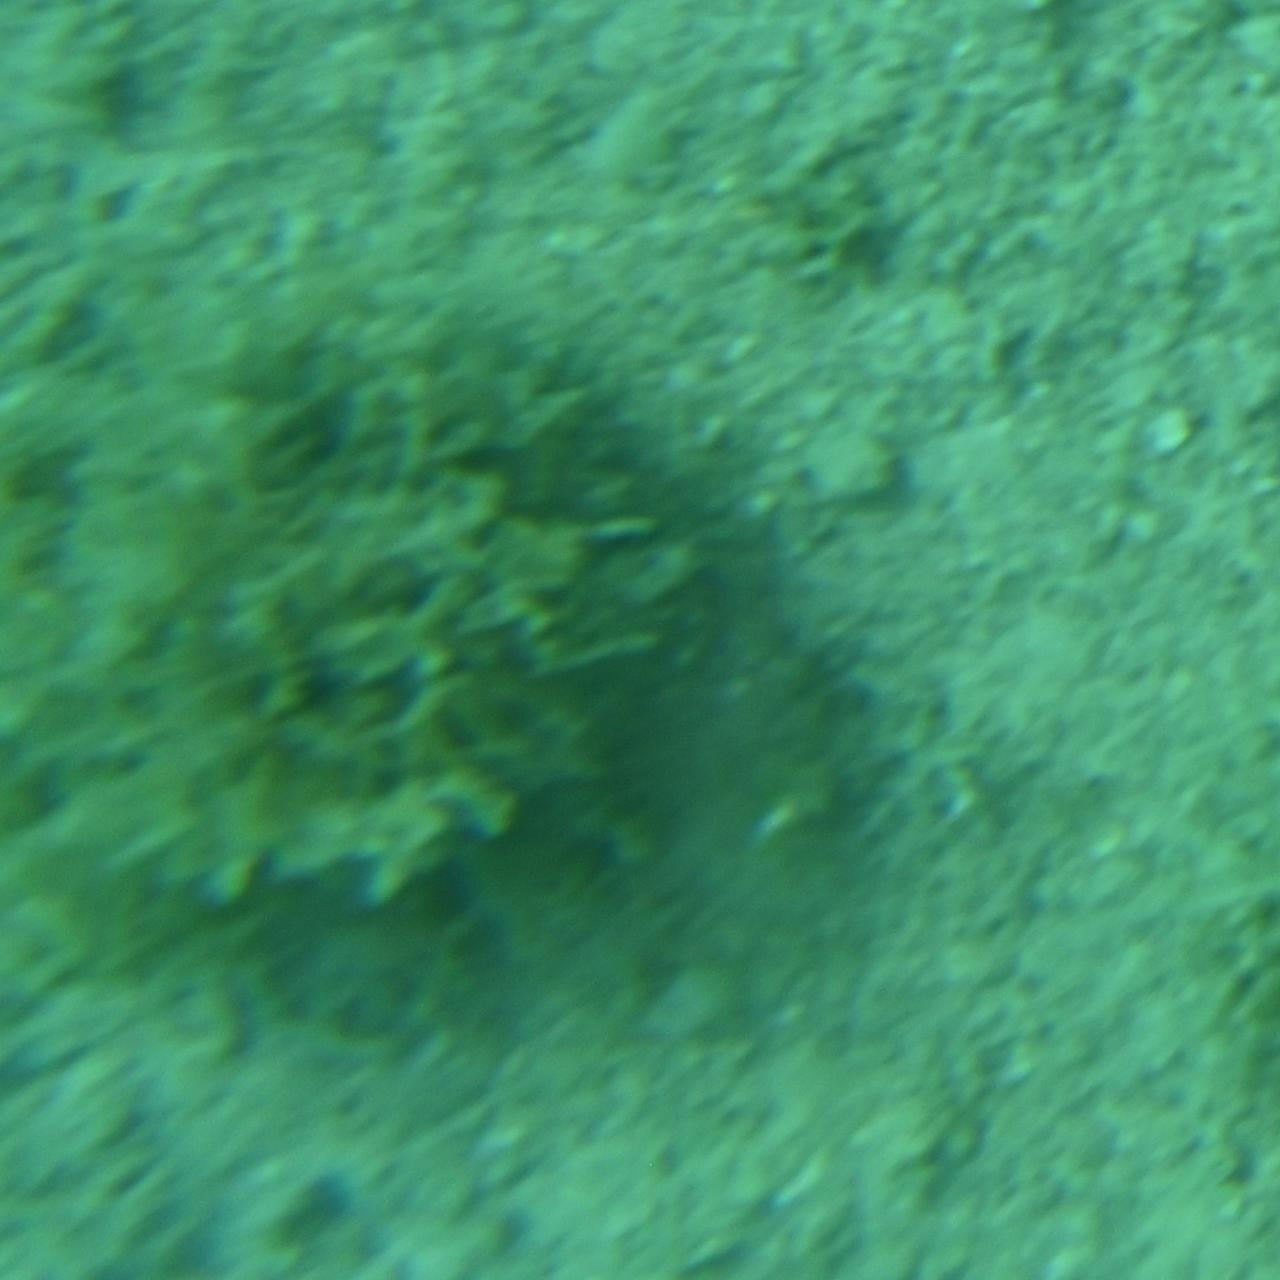Phaeophyceae -cfr Cystoseira-: (21, 318, 687, 962)
